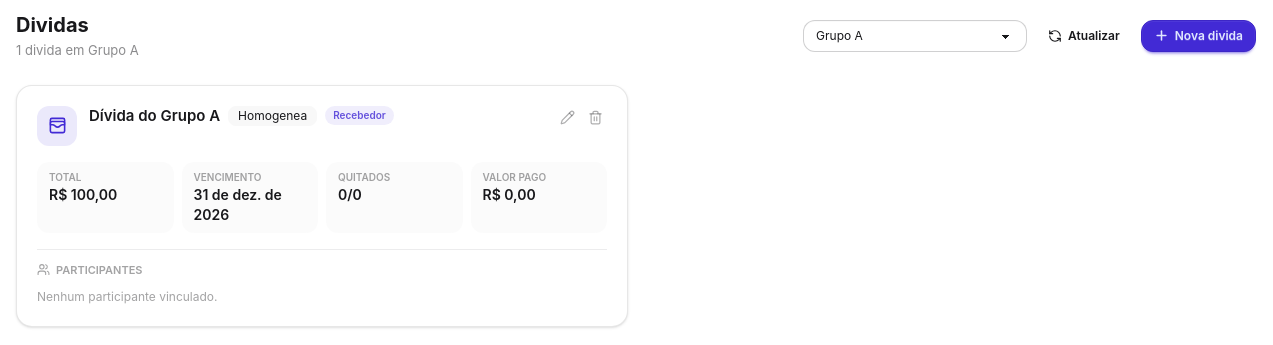
Test: Expenses page › mudar o seletor de grupo recarrega as dívidas
Check: the heading "Dívida do Grupo A" is shown, box [89,106,220,126]
Select "Grupo B" in the dropdown at (915, 36), box [803,20,1027,52]
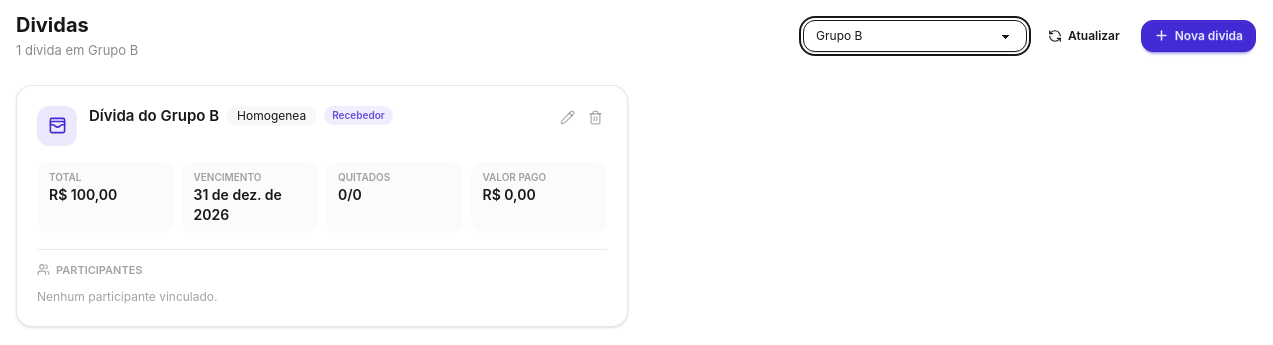
Check: the heading "Dívida do Grupo B" is shown, box [89,106,219,126]
Check: the heading "Dívida do Grupo A" is gone
